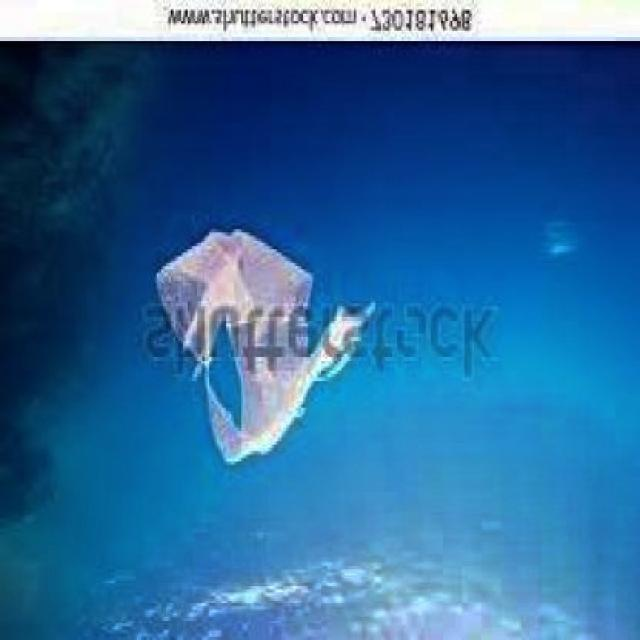pbag: (146, 216, 371, 472)
